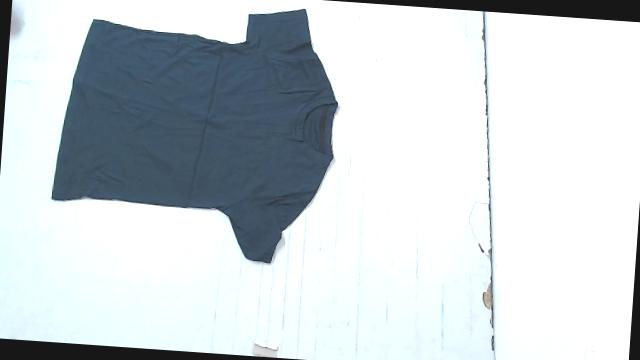new-garment: (51, 8, 336, 262)
